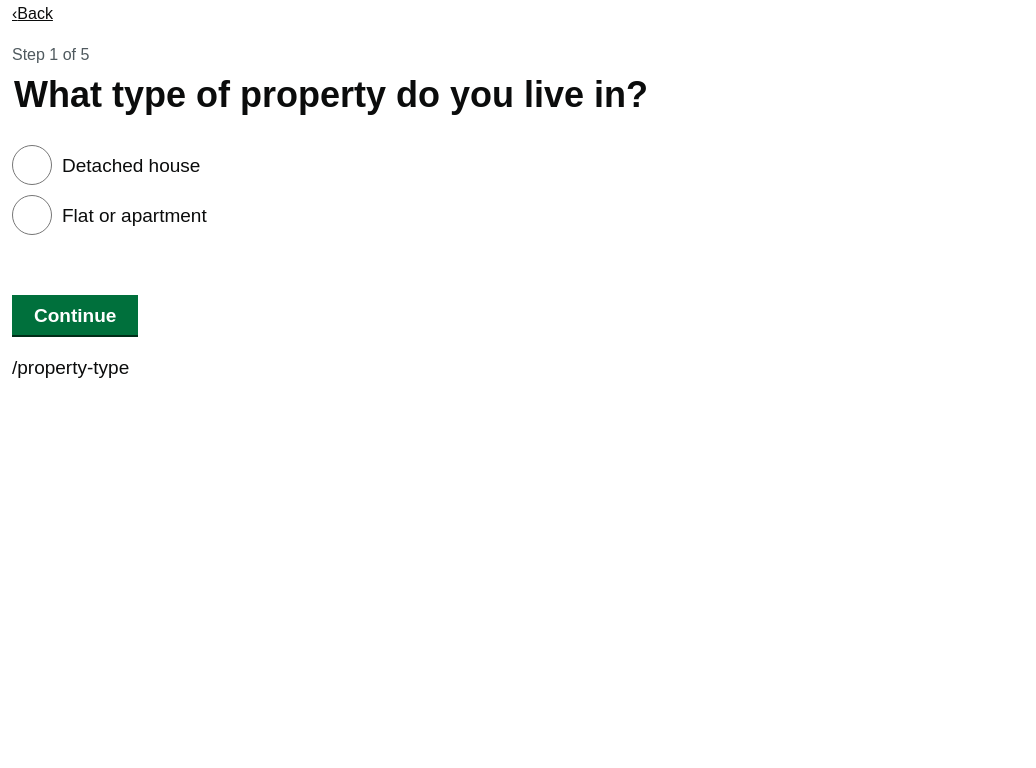
Test case: QuestionPage › 2. clicking Continue with no selection shows the error summary and inline error
The width and height of the screenshot is (1036, 768).
Click the button "Continue" at (75, 315), box [12,295,138,335]
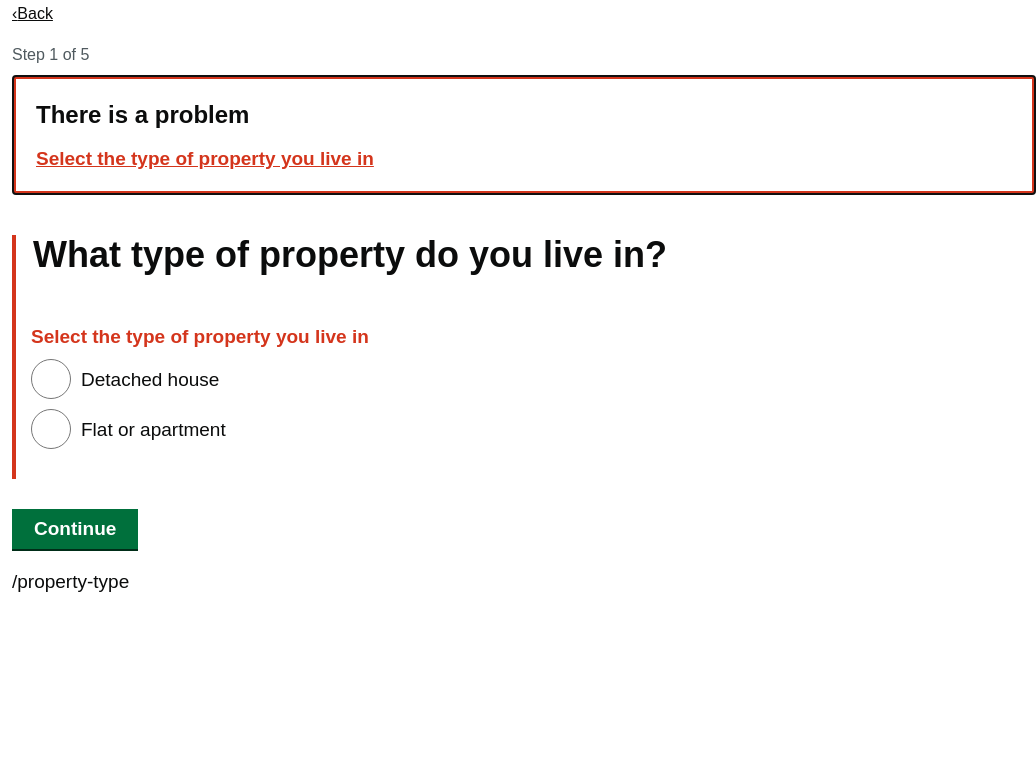
Expected: the heading "There is a problem" is shown, [36,101,249,128]
